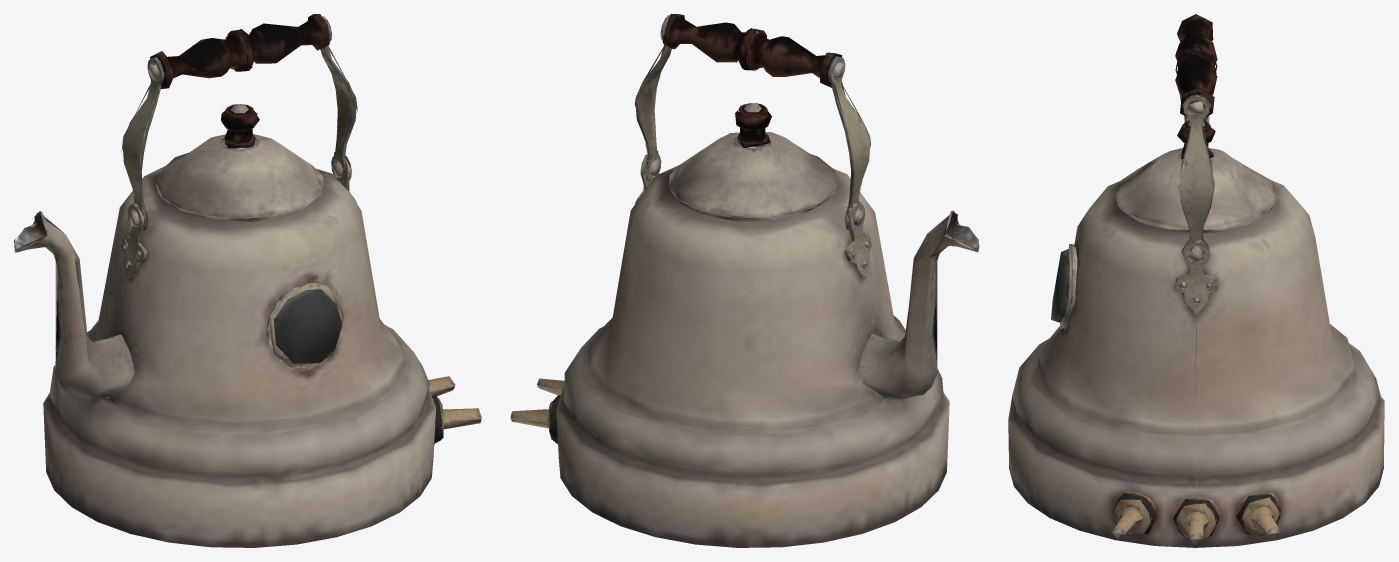
File: vintage_electric_kettle.glb
3 views of the same model, side by side, from view 1: azimuth 30°, elevation 25°; view 2: azimuth 150°, elevation 25°; view 3: azimuth 270°, elevation 25° (orthographic). The views are drawn at different scales.
Parts seen in each view (by area): view 1: vintage_electric_kettle; view 2: vintage_electric_kettle; view 3: vintage_electric_kettle.
Boxes of the visible parts, bbox=[...] form: vintage_electric_kettle: bbox=[14, 14, 481, 547]; vintage_electric_kettle: bbox=[510, 14, 979, 547]; vintage_electric_kettle: bbox=[1008, 14, 1384, 547].
Bounding box in the file's own units: 0.3209 × 0.3059 × 0.2478.
2 materials, 2 textured.
